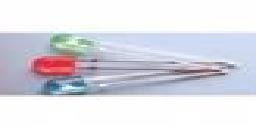LED: (27, 56, 229, 78), (49, 34, 104, 57)
